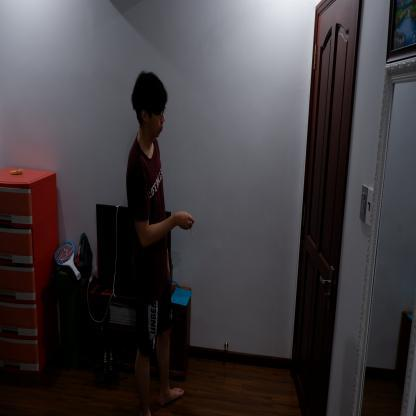cigarette: (190, 227, 194, 239)
person: (125, 67, 196, 415)
